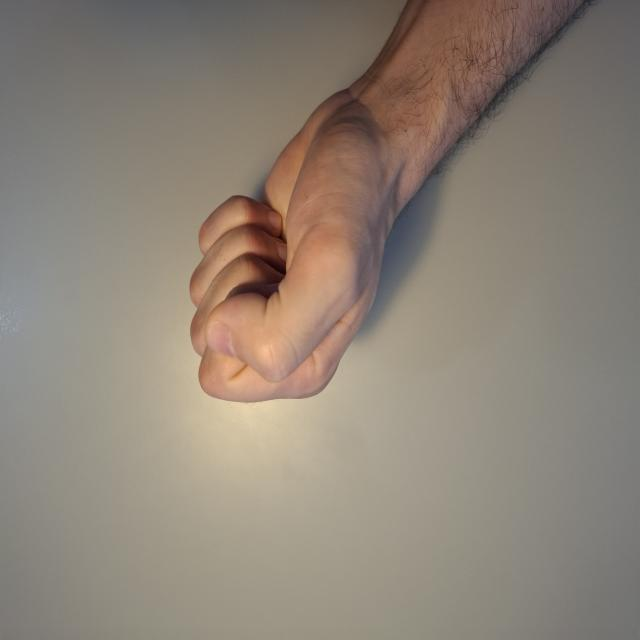glove_off: (188, 63, 413, 409)
